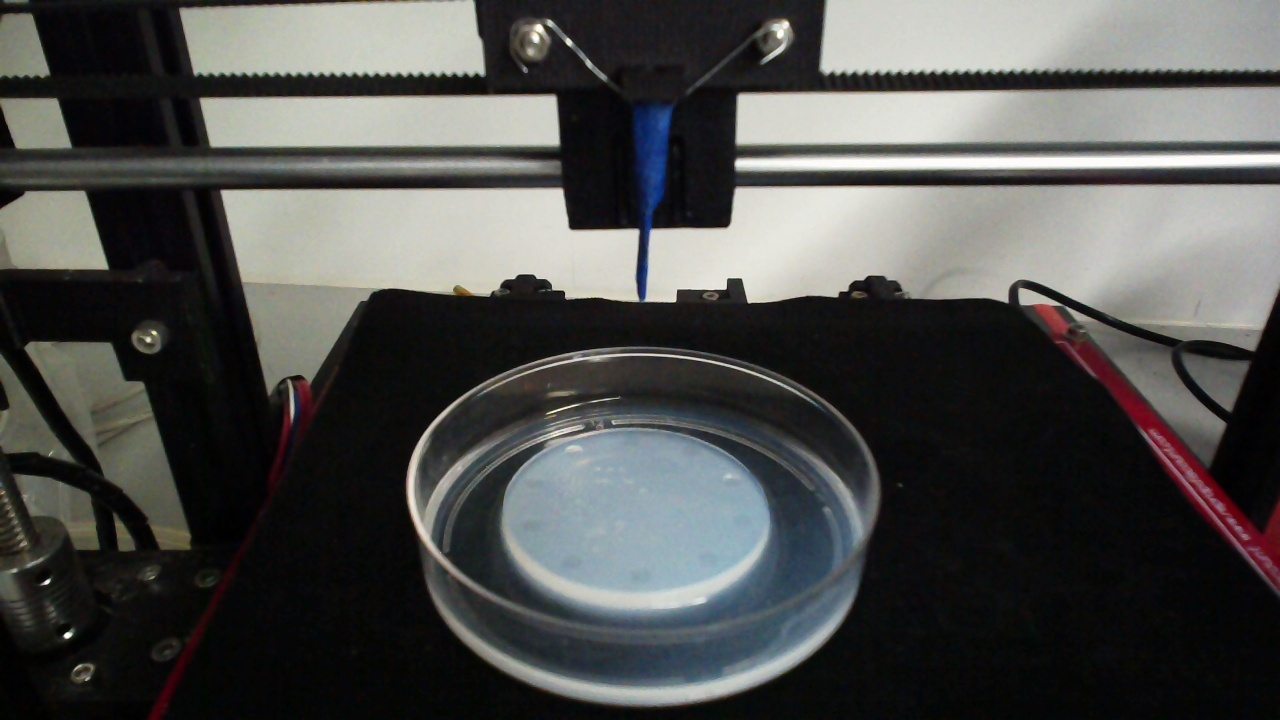groove: (729, 511, 757, 530), (558, 552, 584, 572), (625, 566, 651, 585), (695, 548, 719, 568), (518, 516, 544, 534), (718, 471, 744, 489), (678, 444, 704, 461), (519, 476, 546, 491), (619, 434, 641, 448), (563, 443, 583, 458)
needle: (634, 106, 673, 303)
